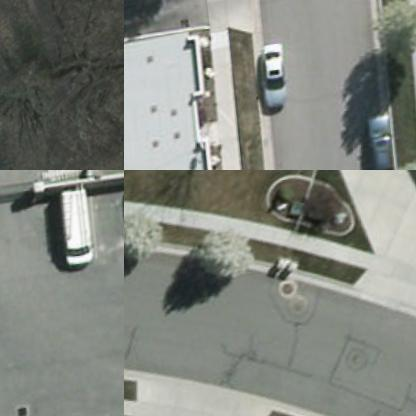car: (258, 43, 285, 118), (366, 112, 397, 169)
van: (57, 188, 93, 273)
